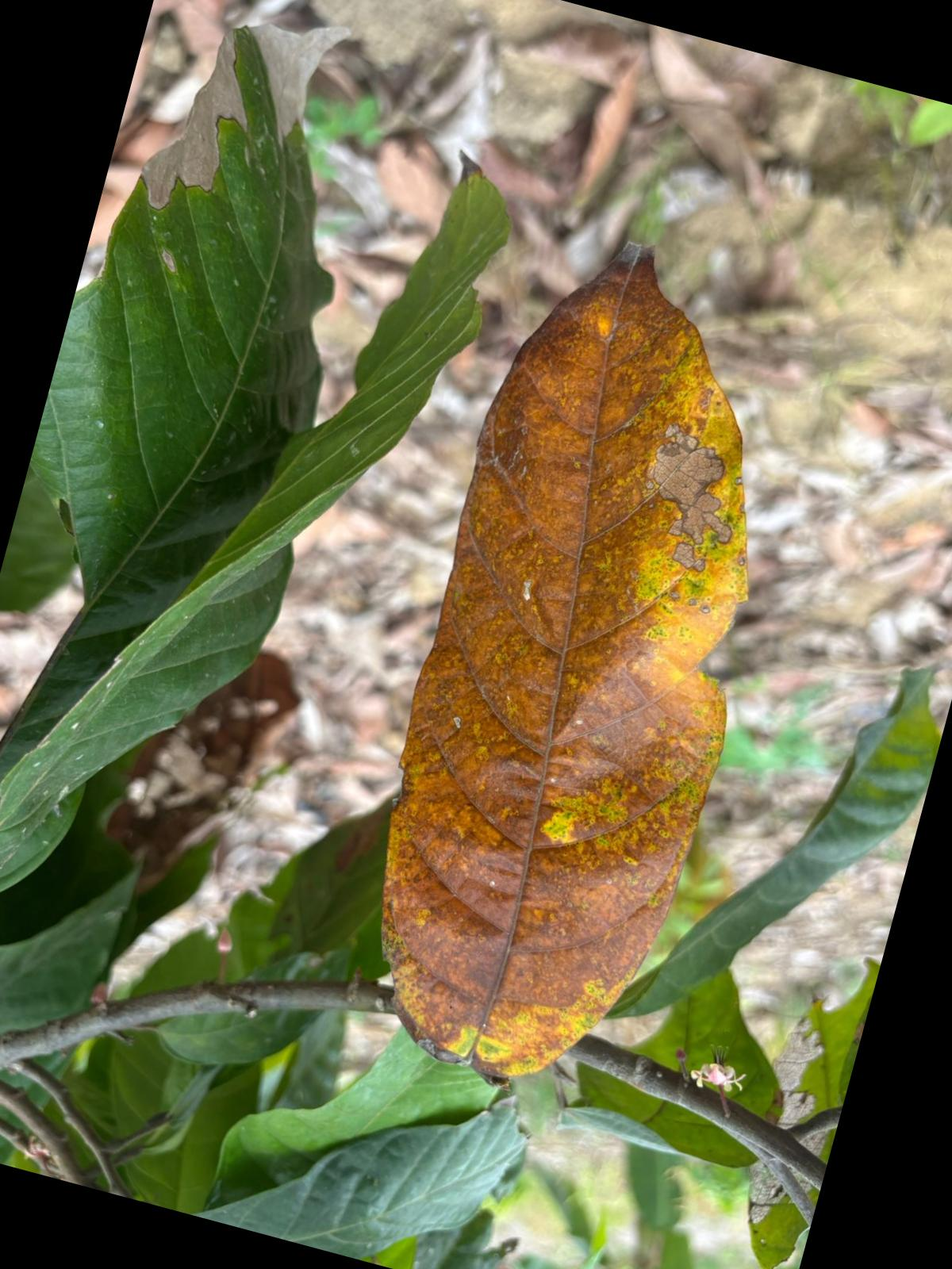Fosforo: (383, 245, 747, 1088)
